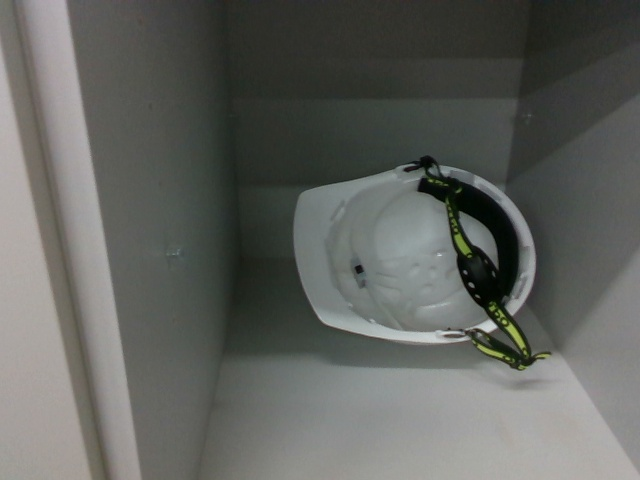helmet: (293, 157, 541, 347)
